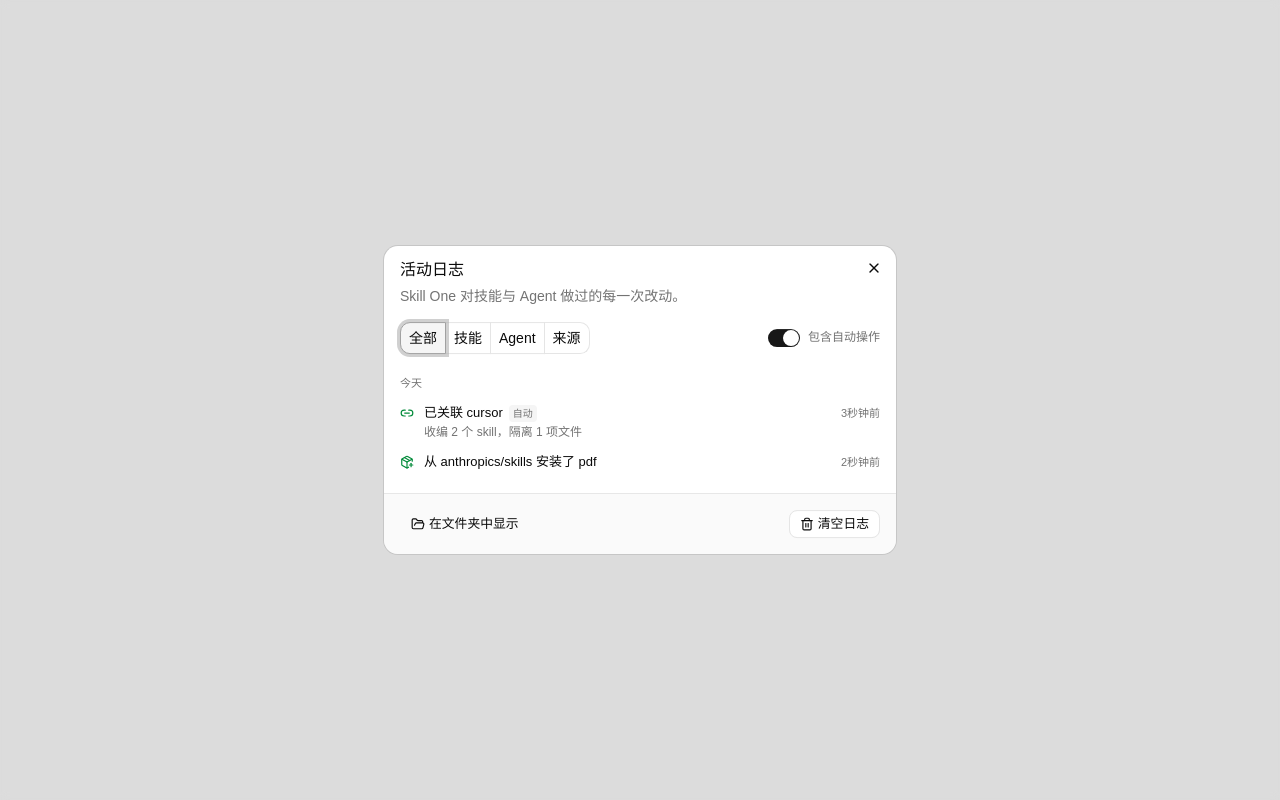
Scenario: ActivityDialog › mutes automatic actions when the toggle is off
Expected: the text "已关联 cursor" is shown, x1=424 y1=404 x2=503 y2=422
Click the switch named "包含自动操作" at (784, 338), box x1=768 y1=329 x2=800 y2=347
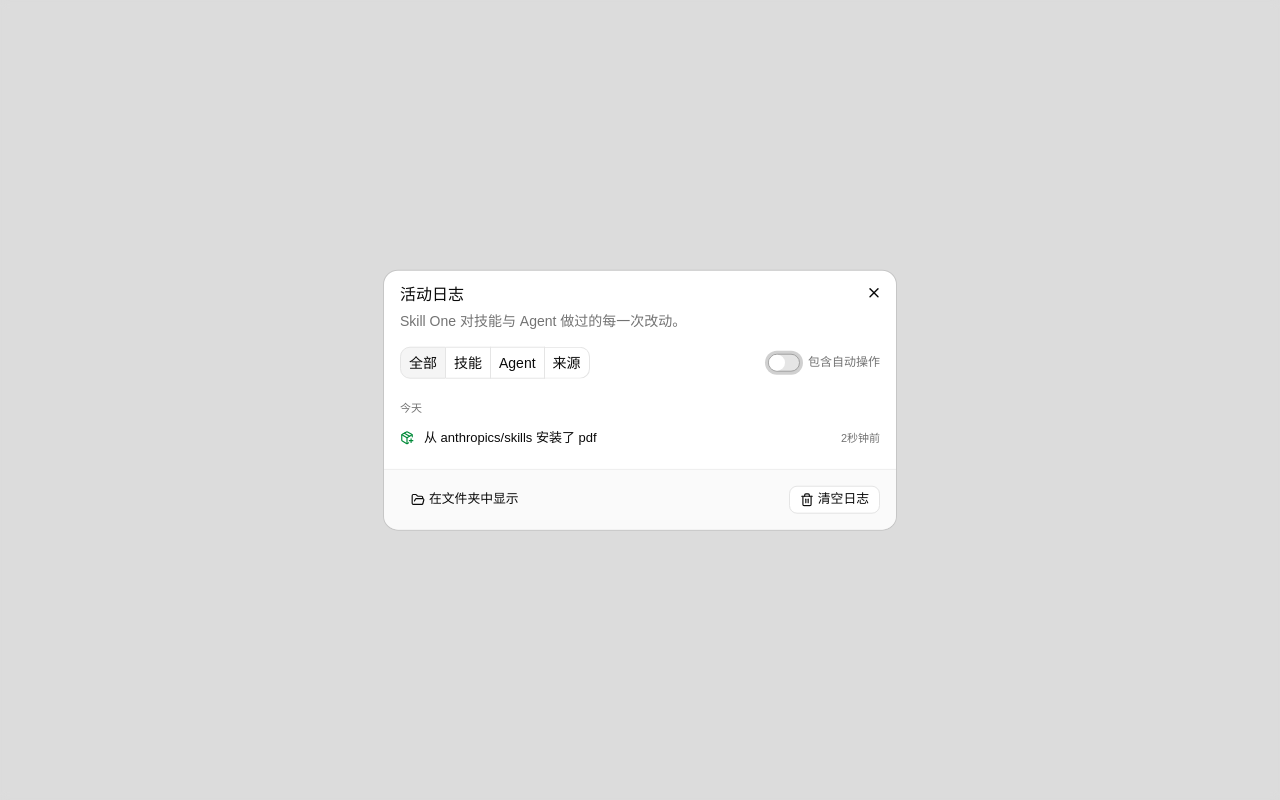
Expected: the text "从 anthropics/skills 安装了 pdf" is shown, x1=424 y1=428 x2=597 y2=446
Expected: the text "已关联 cursor" is gone
